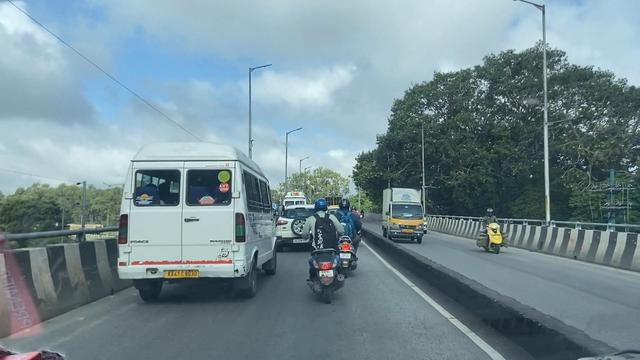HMV: (124, 157, 271, 293)
LMV: (297, 196, 344, 310), (327, 197, 357, 279)
